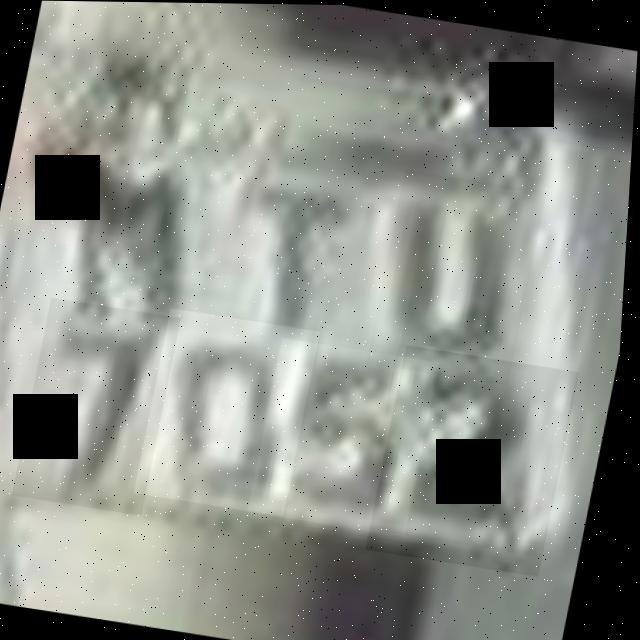0: (139, 308, 325, 516)
2: (367, 343, 573, 554)
3: (371, 343, 585, 575)
5: (253, 337, 445, 535)
7: (17, 298, 186, 516)
U: (370, 168, 550, 384)
